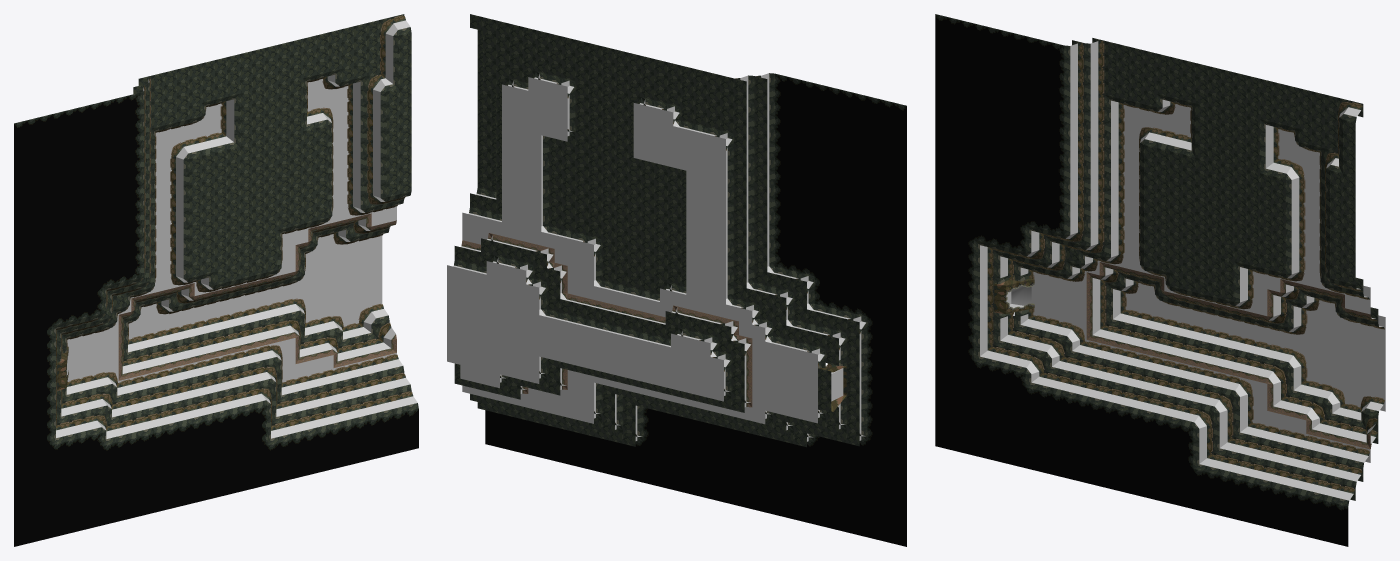
The model's file is Victory-Road-2_02_02.obj.
3 views of the same model, side by side, from view 1: azimuth 30°, elevation 25°; view 2: azimuth 150°, elevation 25°; view 3: azimuth 330°, elevation 25° (orthographic). The views are drawn at different scales.
Parts seen in each view (by area): view 1: map; view 2: map; view 3: map.
Part boxes in pixels (left/top/right/bottom): map: left=14, top=14, right=418, bottom=546; map: left=447, top=14, right=906, bottom=546; map: left=935, top=14, right=1385, bottom=546.
Size of the model in its own units: 32 by 32 by 5.
